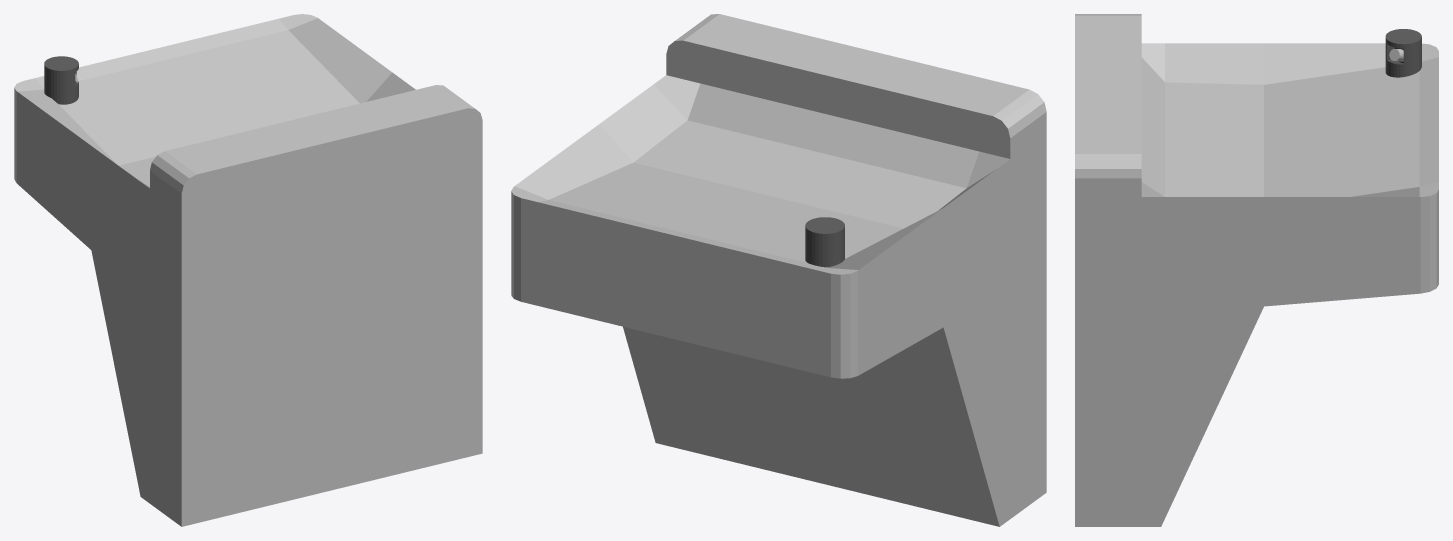
Rendered from waterfountain.fbx.
3 views of the same model, side by side, from view 1: azimuth 30°, elevation 25°; view 2: azimuth 150°, elevation 25°; view 3: azimuth 270°, elevation 25° (orthographic). The views are drawn at different scales.
Parts seen in each view (by area): view 1: Cube, Cylinder; view 2: Cube, Cylinder; view 3: Cube, Cylinder.
Boxes of the visible parts, x1,y1,x2,y2 form: Cube: (14, 14, 482, 526); Cylinder: (44, 56, 78, 104); Cube: (511, 14, 1046, 526); Cylinder: (805, 217, 844, 267); Cube: (1075, 14, 1438, 526); Cylinder: (1385, 29, 1421, 77).
Bounding box in the file's own units: 200 × 221 × 200.
